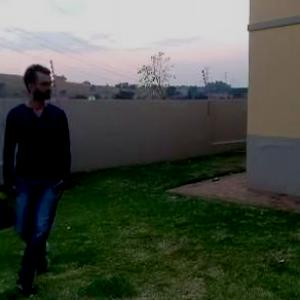follow: (16, 57, 80, 284)
